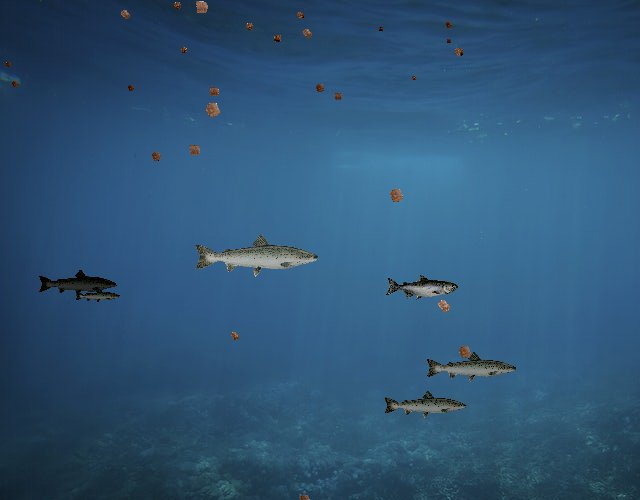Fish: (192, 232, 321, 278), (425, 350, 519, 384), (382, 389, 468, 420), (38, 269, 119, 298), (386, 275, 459, 301), (75, 287, 122, 304)
Pellet: (198, 94, 228, 124), (430, 293, 457, 320), (452, 339, 478, 365), (183, 139, 206, 162), (176, 43, 191, 58), (124, 81, 138, 95)
